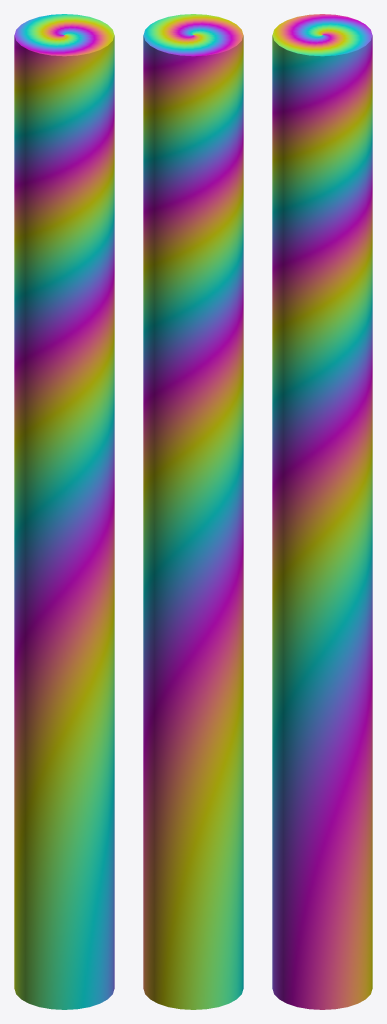
Rendered from Rod.obj.
3 views of the same model, side by side, from view 1: azimuth 90°, elevation 25°; view 2: azimuth 150°, elevation 25°; view 3: azimuth 270°, elevation 25° (orthographic).
Bounding box in the file's own units: 0.1902 × 2 × 0.1902.
Materials: 1 (1 with a texture image).
